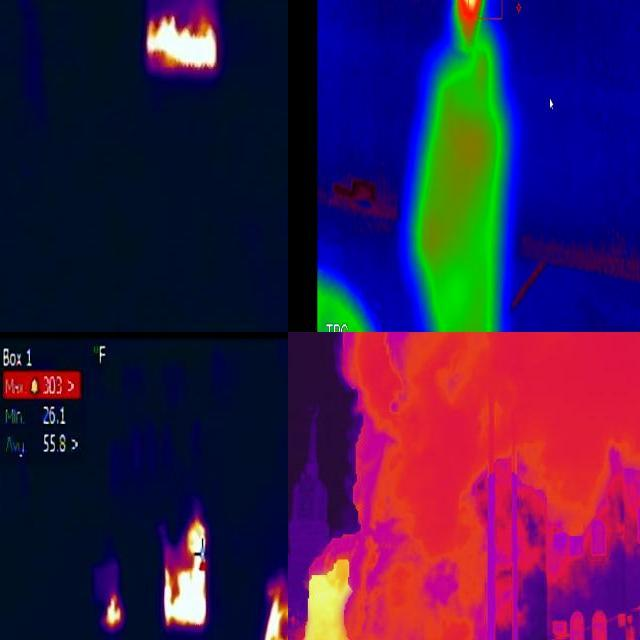fire: (163, 520, 213, 628), (144, 10, 218, 72), (308, 555, 354, 640), (455, 1, 497, 52), (263, 580, 289, 640), (102, 593, 123, 631)
